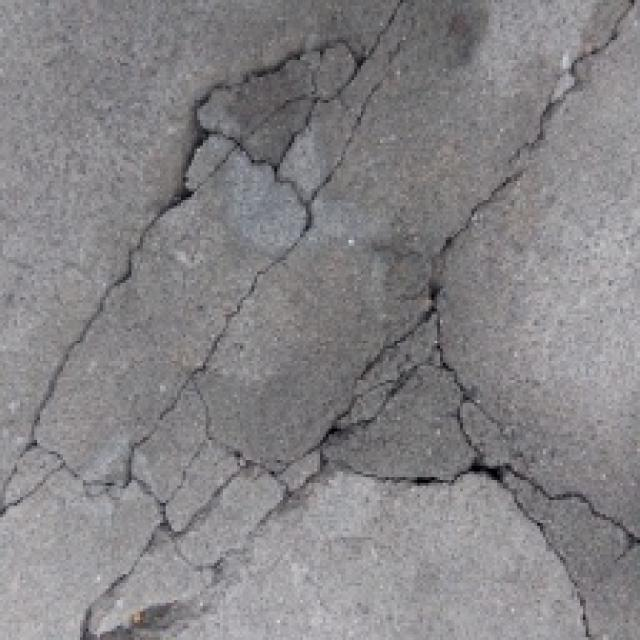crack: (24, 28, 338, 468), (376, 0, 640, 428), (44, 482, 314, 640), (426, 446, 640, 640)
